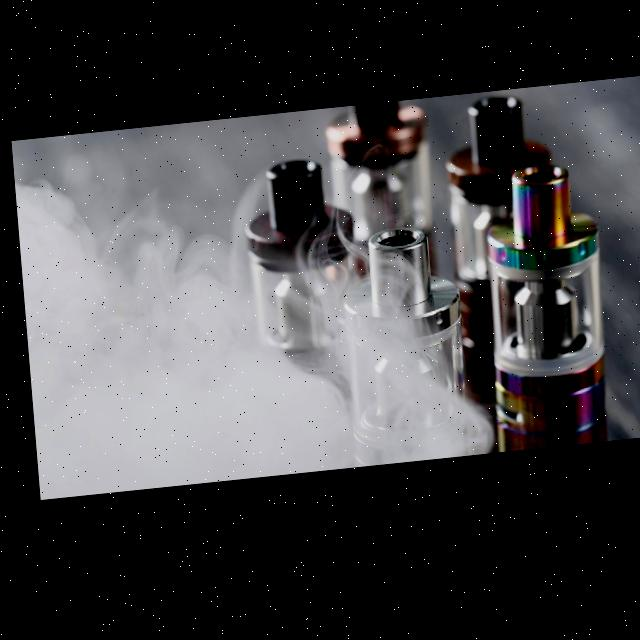vape: (477, 175, 605, 462), (439, 102, 564, 395), (332, 229, 465, 474), (236, 159, 360, 415), (321, 107, 436, 290)
